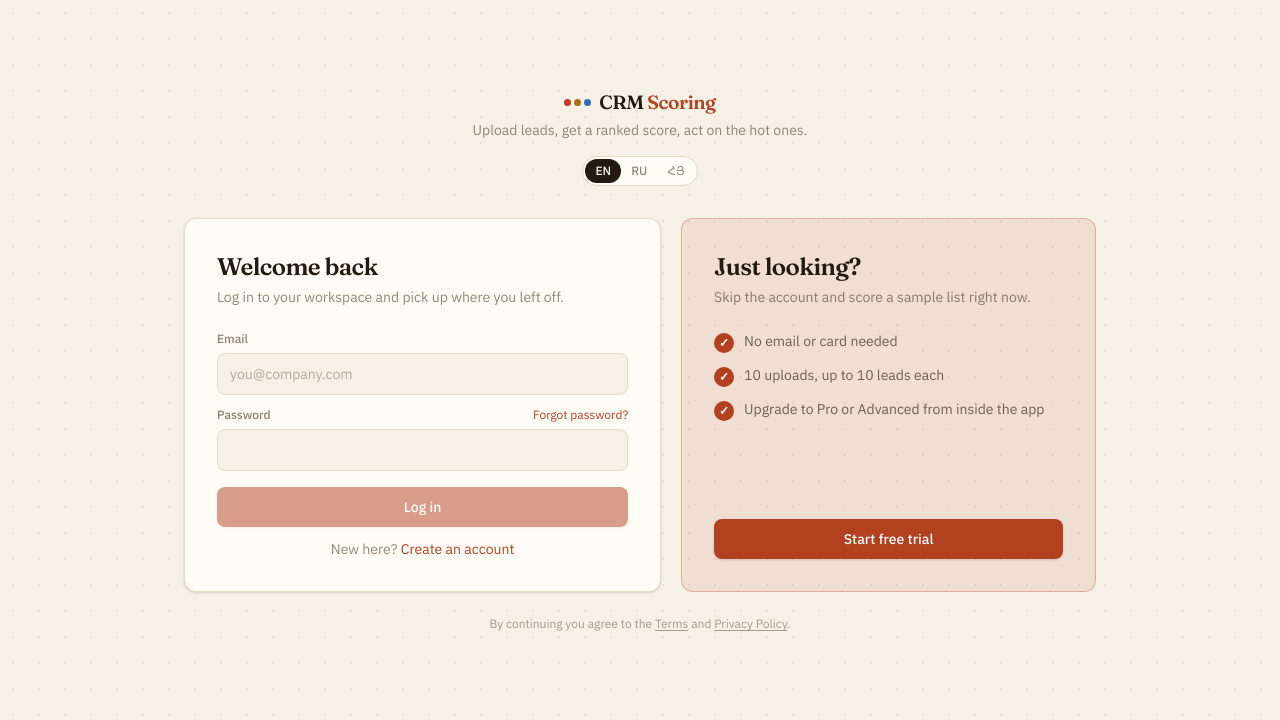
Test: AuthPage › shows the server's error and stays on the page when login fails
The width and height of the screenshot is (1280, 720).
Type "tina@example.com" into the field labelled "Email".
click(423, 374); type("tina@example.com")  # box [217, 354, 628, 396]
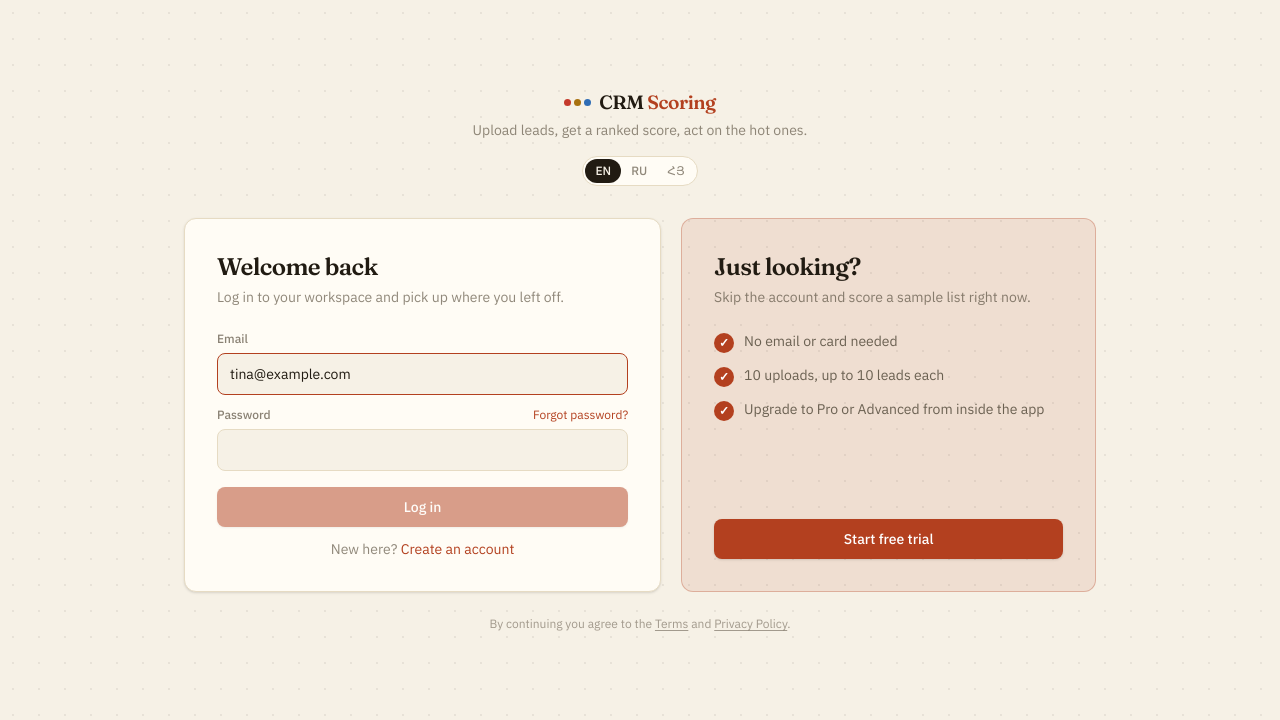
Type "wrong" into the password field labelled "Password".
click(423, 450); type("wrong")  # box [217, 430, 628, 472]
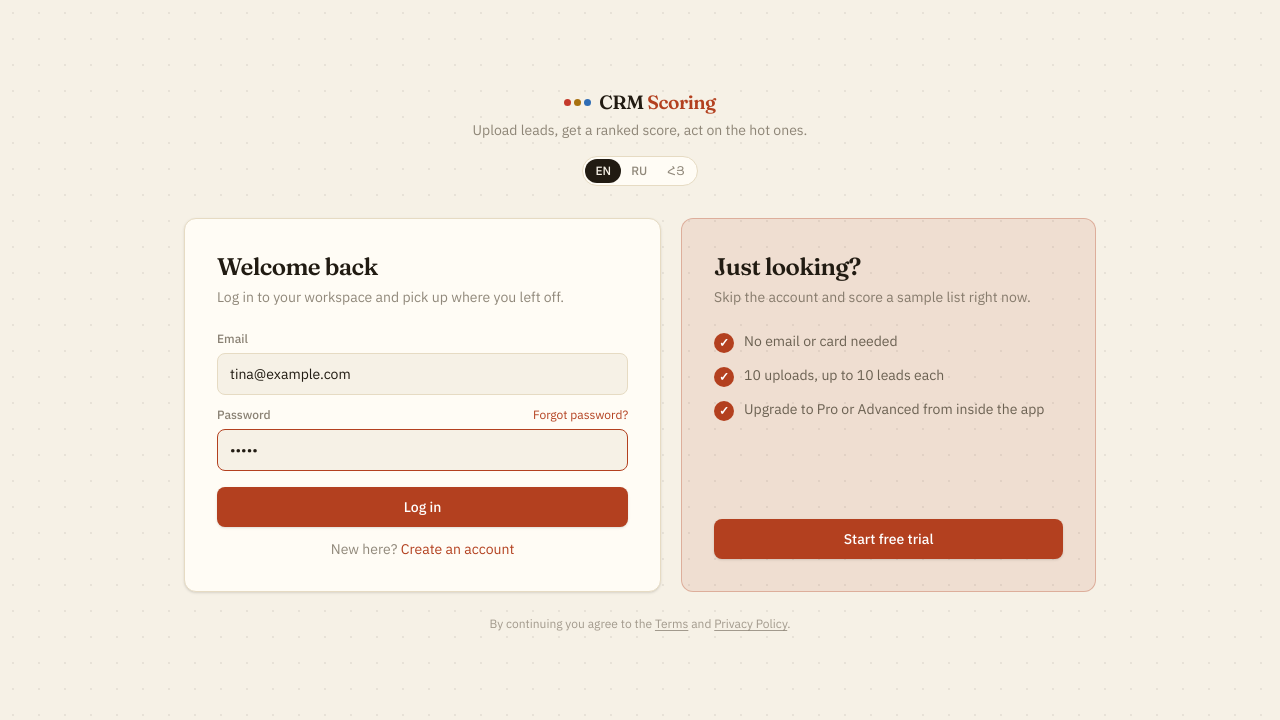
Click the button "Log in".
click(423, 508)  # box [217, 488, 628, 528]
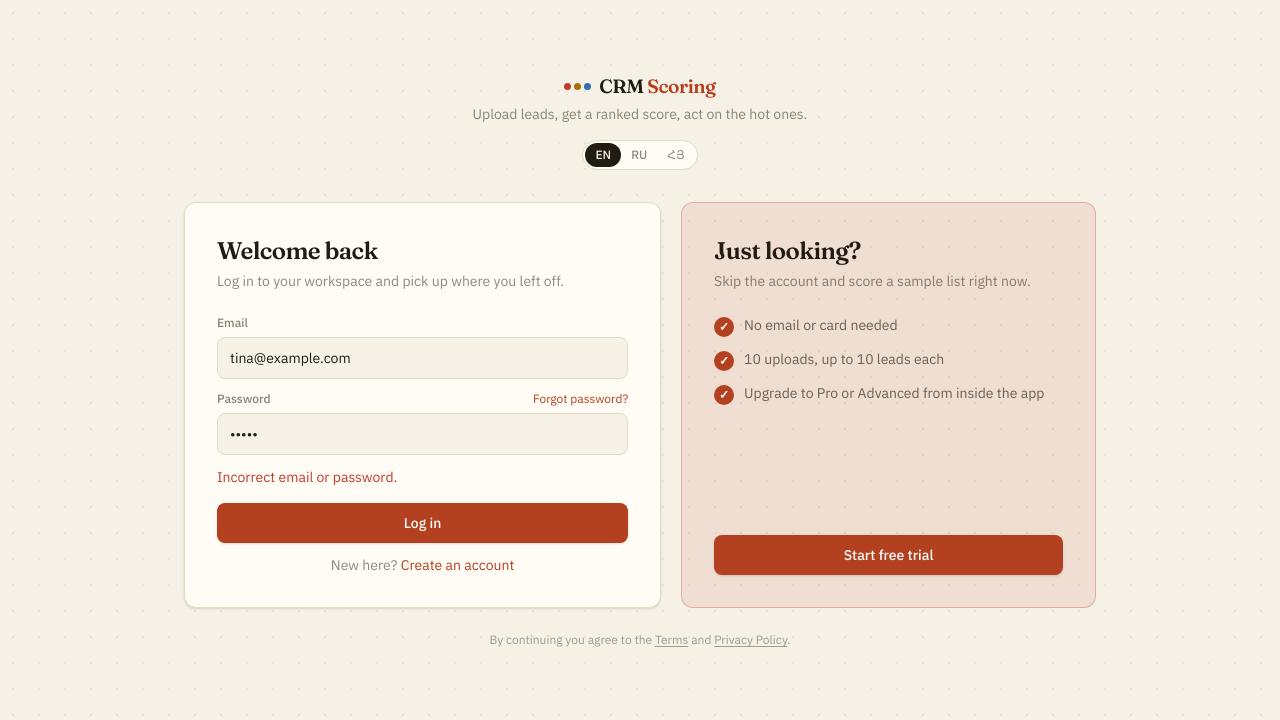
Now the message reads "Incorrect email or password.", box [217, 468, 397, 486]
